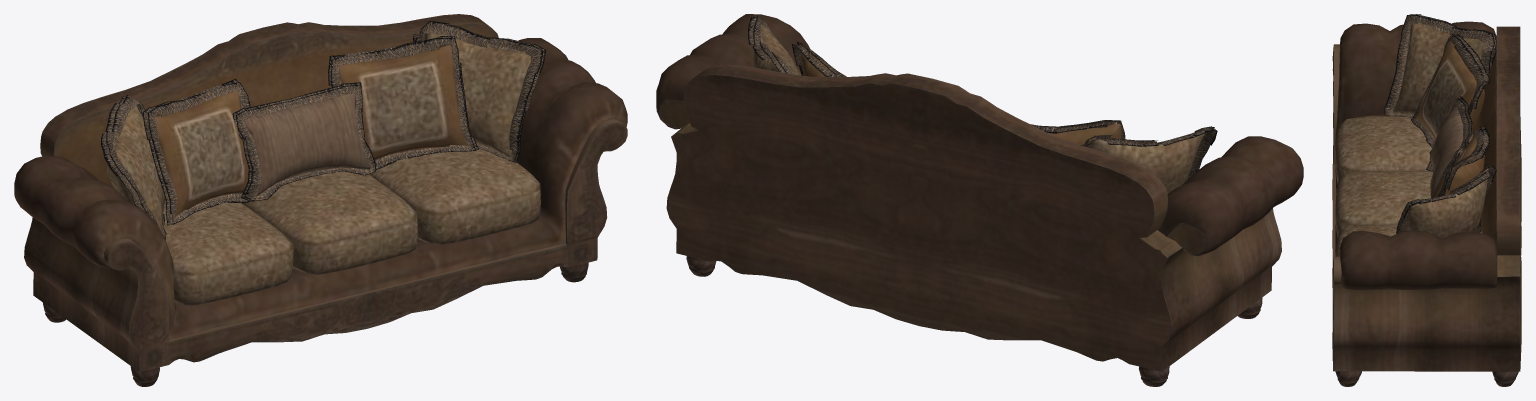
File: sofa_03.glb
The picture shows the model from 3 angles, left to right: view 1: azimuth 30°, elevation 25°; view 2: azimuth 150°, elevation 25°; view 3: azimuth 270°, elevation 25°; orthographic projection. The views are drawn at different scales.
Visible parts, largest first — view 1: sofa_03; view 2: sofa_03; view 3: sofa_03.
Boxes of the visible parts, bbox=[...] form: sofa_03: bbox=[14, 14, 627, 386]; sofa_03: bbox=[656, 14, 1303, 386]; sofa_03: bbox=[1332, 14, 1521, 386].
Bounding box in the file's own units: 2.73 × 1.12 × 0.9251.
2 materials, 2 textured.
